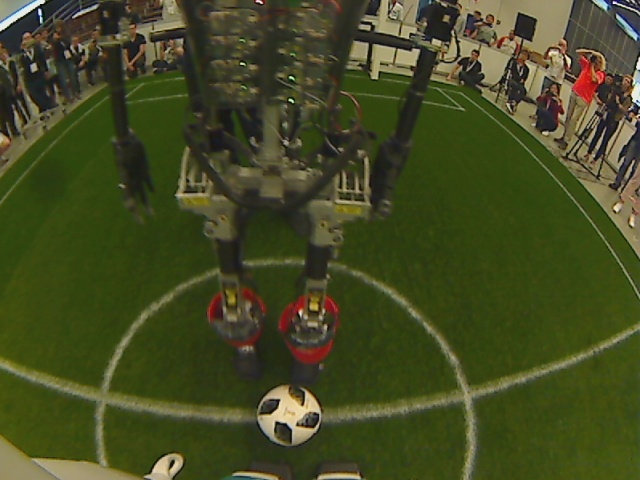ball: (254, 380, 328, 449)
